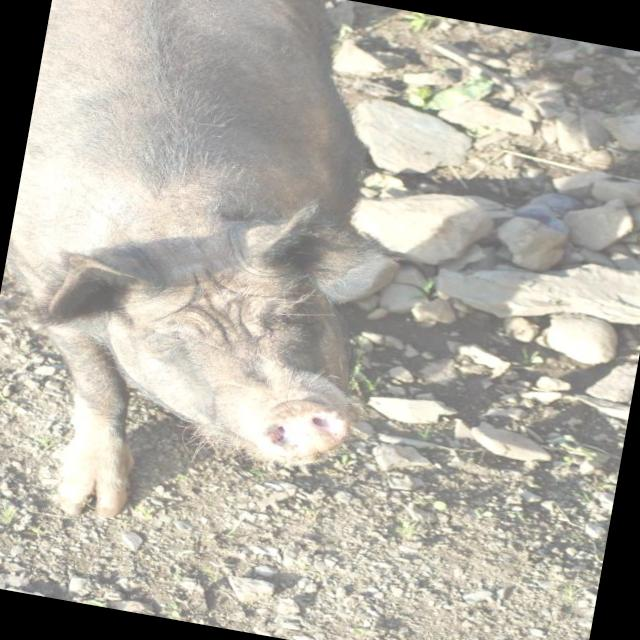pig: (8, 0, 387, 517)
